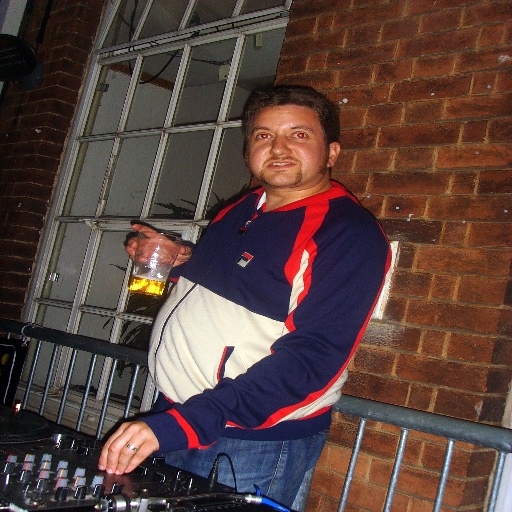hand: (125, 220, 194, 270), (101, 418, 156, 475)
